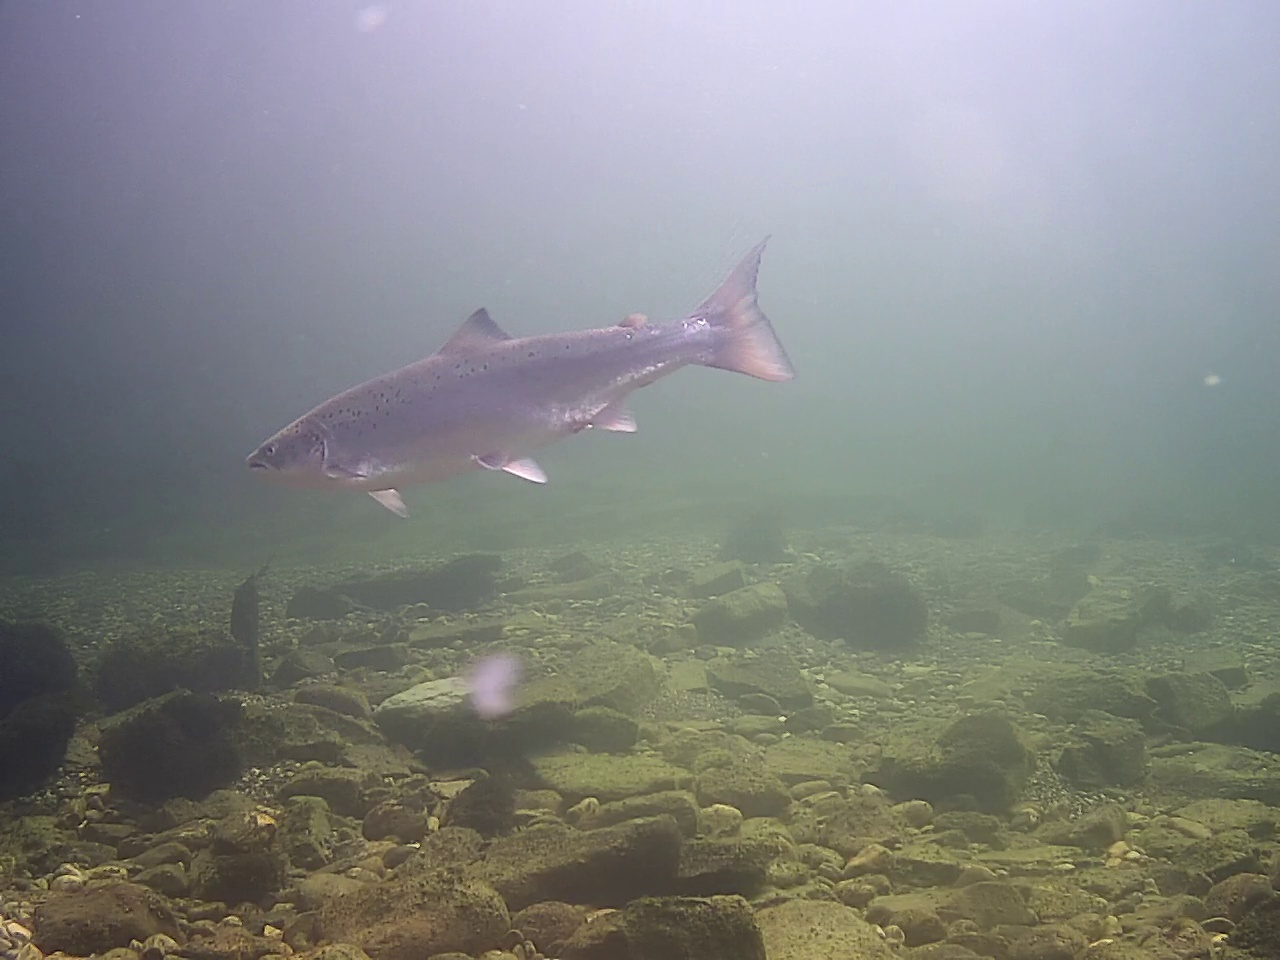salmon: (241, 233, 802, 523)
